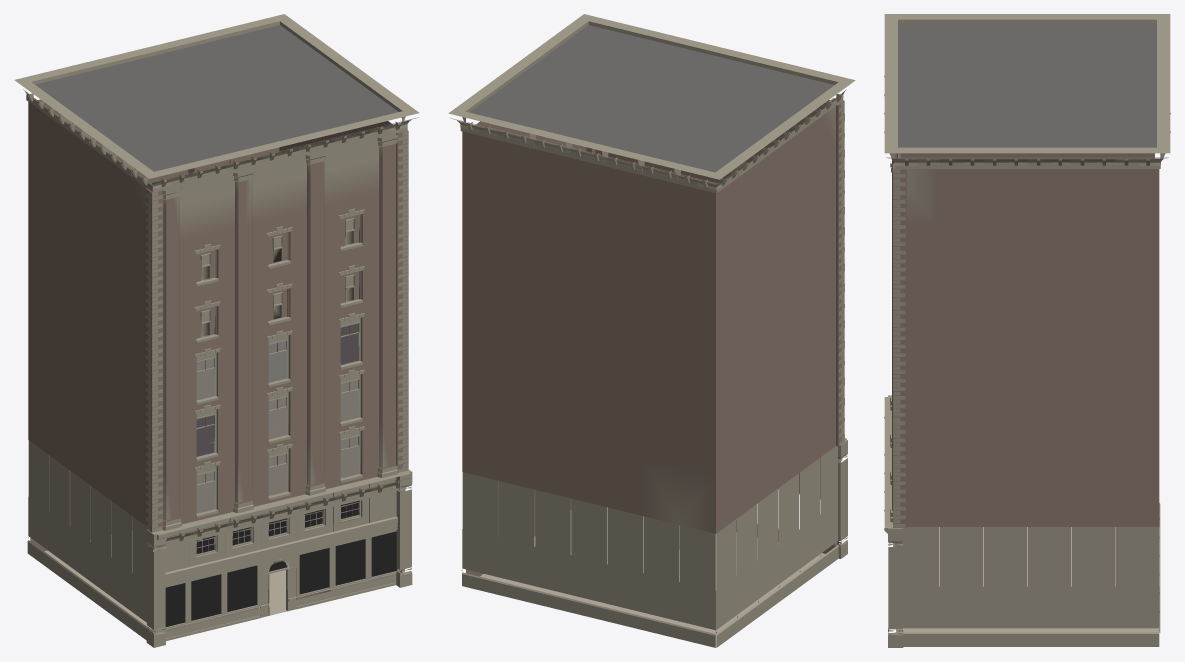
Rendered from downtown_medium.glb.
3 renders of one model, left to right at view 1: azimuth 30°, elevation 25°; view 2: azimuth 150°, elevation 25°; view 3: azimuth 270°, elevation 25°, orthographic. The views are drawn at different scales.
Visible parts, largest first — view 1: downtown_medium; view 2: downtown_medium; view 3: downtown_medium.
Boxes of the visible parts, <box> form: downtown_medium: <box>14,14,419,647</box>; downtown_medium: <box>448,14,855,647</box>; downtown_medium: <box>884,14,1170,647</box>.
Size of the model in its own units: 15.06 by 25.01 by 13.06.
